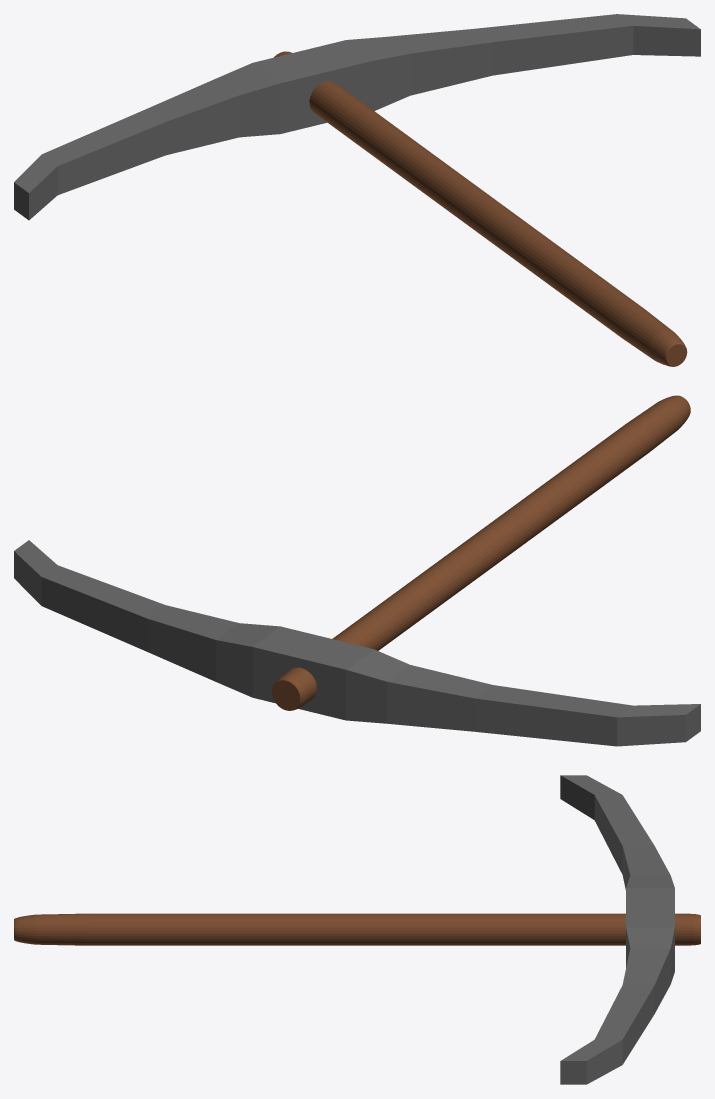
The model's file is Pickaxe.fbx.
3 renders of one model, top to bottom at view 1: azimuth 30°, elevation 25°; view 2: azimuth 150°, elevation 25°; view 3: azimuth 270°, elevation 25°, orthographic. The views are drawn at different scales.
Parts seen in each view (by area): view 1: Cylinder.067; view 2: Cylinder.067; view 3: Cylinder.067.
Boxes of the visible parts, x1,y1,x2,y2 form: Cylinder.067: [14, 14, 700, 366]; Cylinder.067: [14, 395, 700, 746]; Cylinder.067: [14, 775, 700, 1084].
Bounding box in the file's own units: 242 × 17.46 × 246.
